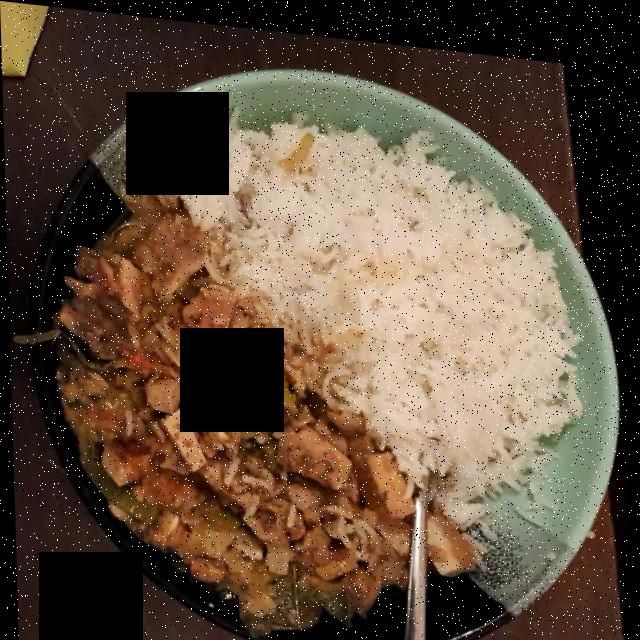rice: (144, 104, 570, 535)
tofu: (146, 272, 423, 523)
